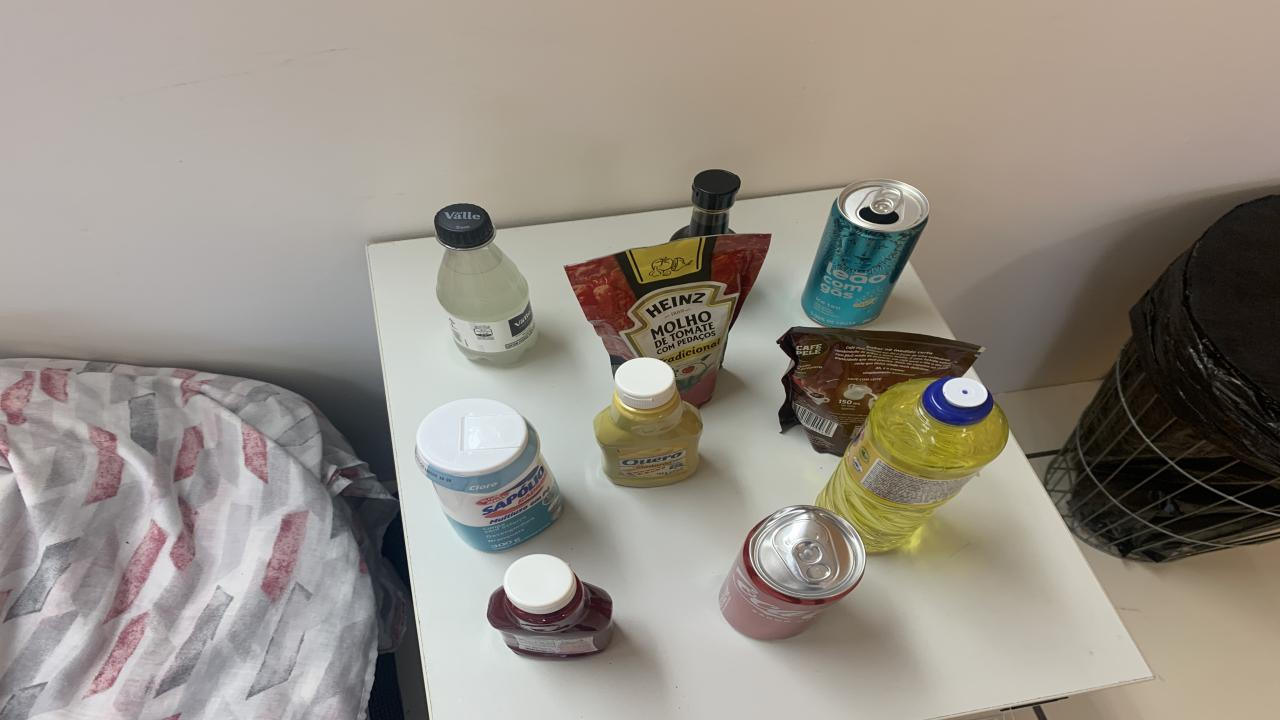Cleaner-Cleanup_Items: (415, 398, 562, 551)
Coffee-Pantry_Items: (778, 326, 982, 456)
Coke-Drinks: (718, 506, 865, 639)
Detergent-Cleanup_Items: (818, 377, 1008, 551)
English_Sauce-Pantry_Items: (670, 169, 740, 240)
Ketchup-Pantry_Items: (488, 555, 612, 658)
Mustard-Pantry_Items: (592, 356, 702, 488)
Soda-Drinks: (435, 202, 538, 366)
Tea-Drinks: (802, 180, 928, 328)
Tomato_Sauce-Pantry_Items: (565, 234, 770, 407)
